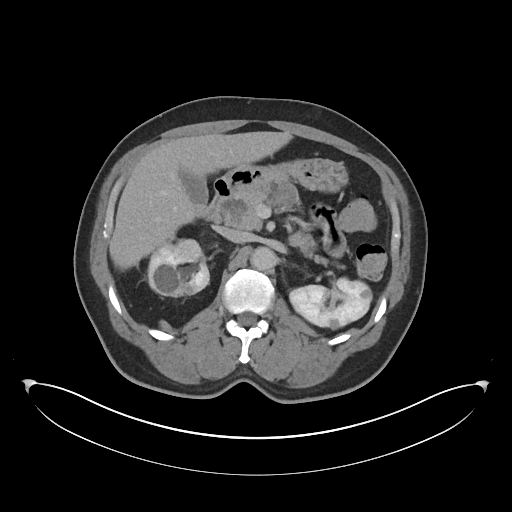Lesion: (152, 261, 183, 297)
